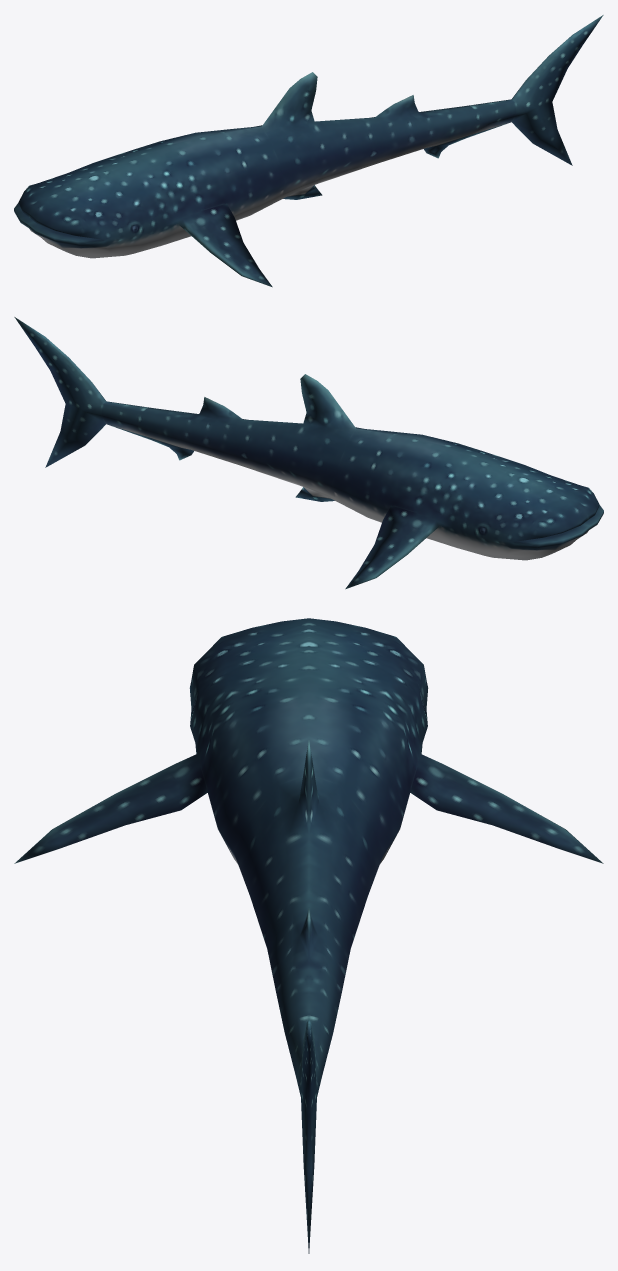
File: f28_jingsha.FBX
The picture shows the model from 3 angles, top to bottom: view 1: azimuth 30°, elevation 25°; view 2: azimuth 150°, elevation 25°; view 3: azimuth 270°, elevation 25°; orthographic projection. The views are drawn at different scales.
Visible parts, largest first — view 1: f28_jingsha; view 2: f28_jingsha; view 3: f28_jingsha.
Boxes of the visible parts, left/top/right/bottom form: f28_jingsha: left=14, top=15, right=603, bottom=287; f28_jingsha: left=14, top=317, right=603, bottom=589; f28_jingsha: left=14, top=618, right=603, bottom=1253.
Size of the model in its own units: 452 by 118 by 222.
